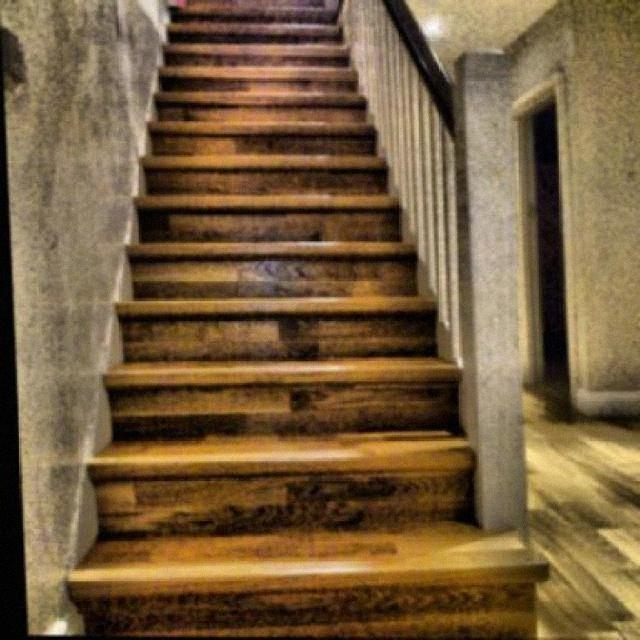stair: (40, 0, 451, 588)
